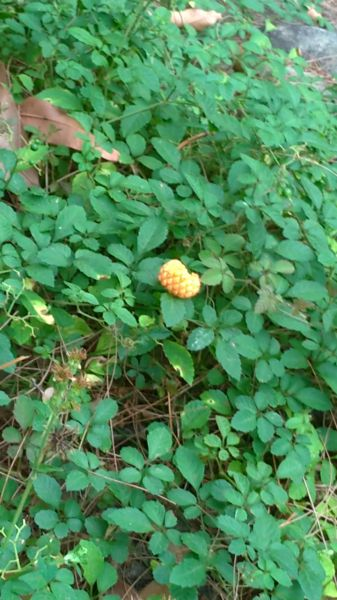eggs: (153, 255, 207, 300)
